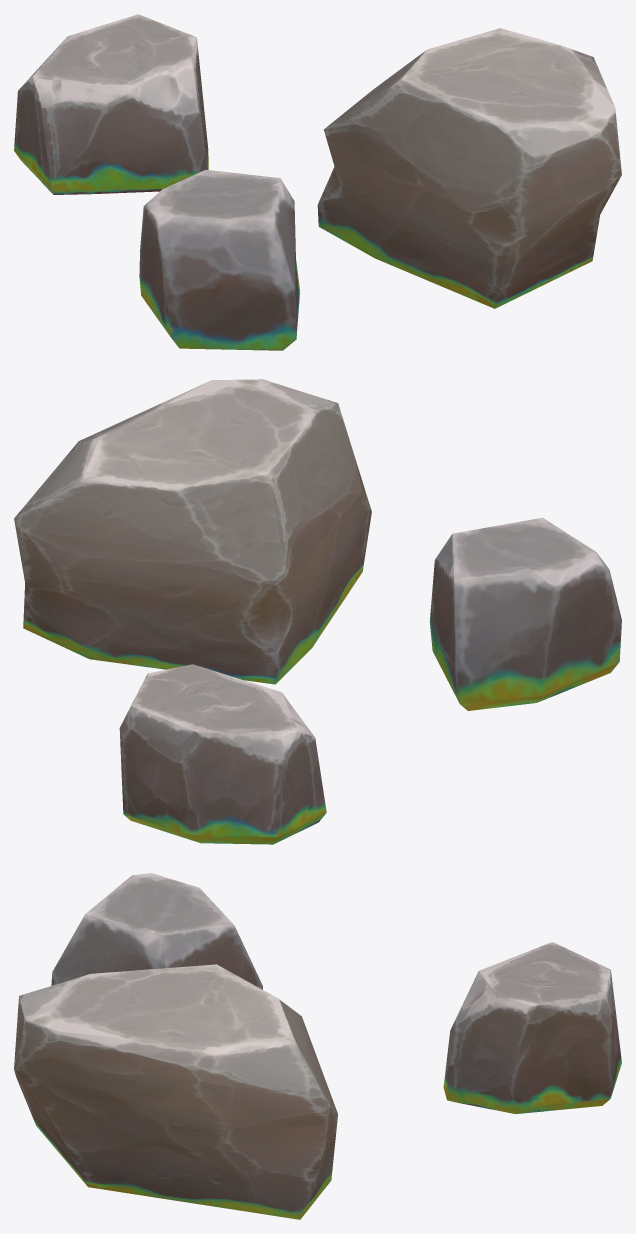
File: sassi1.glb
The picture shows the model from 3 angles, top to bottom: view 1: azimuth 30°, elevation 25°; view 2: azimuth 150°, elevation 25°; view 3: azimuth 270°, elevation 25°; orthographic projection. The views are drawn at different scales.
Visible parts, largest first — view 1: Stone_1_Low; view 2: Stone_1_Low; view 3: Stone_1_Low.
Boxes of the visible parts, x1,y1,x2,y2 form: Stone_1_Low: [14, 14, 621, 350]; Stone_1_Low: [14, 379, 621, 844]; Stone_1_Low: [14, 873, 621, 1219].
Bounding box in the file's own units: 1.36 × 0.5049 × 1.52.
1 material, 1 textured.
